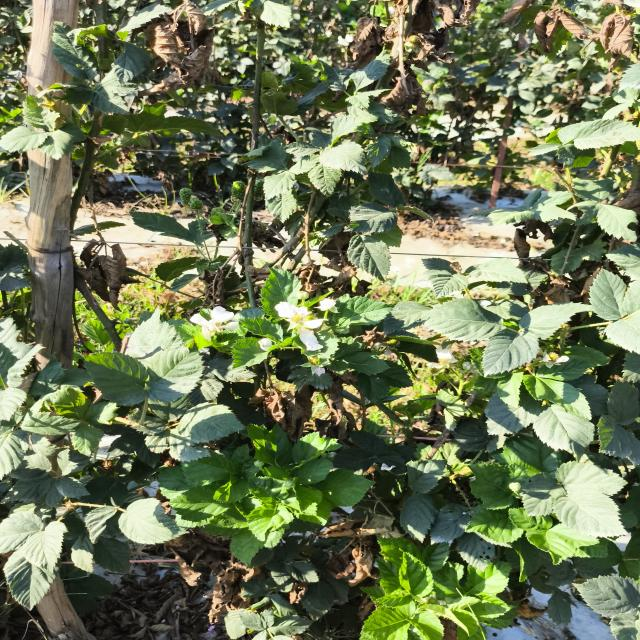boton: (258, 338, 273, 351), (509, 482, 521, 493), (299, 291, 309, 300)
flor: (190, 306, 239, 339), (275, 302, 323, 329), (298, 329, 322, 351), (317, 298, 336, 311)
